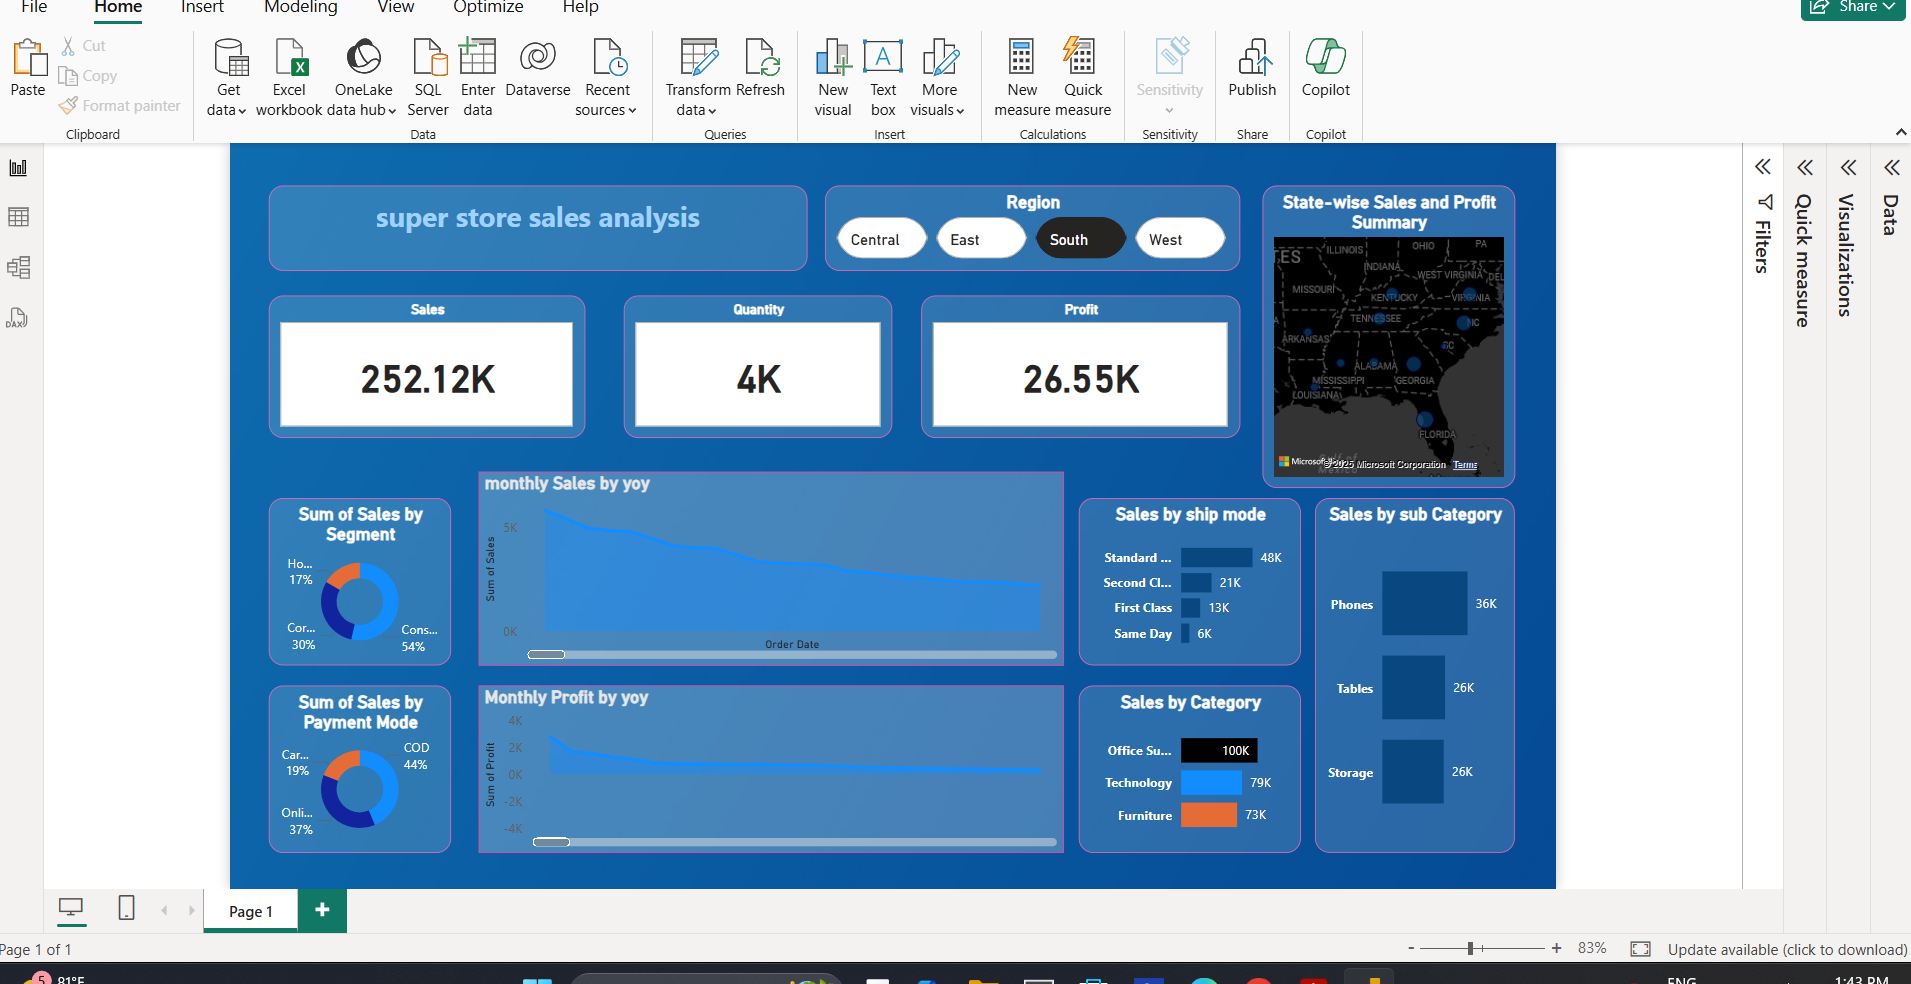

This screenshot's page, from the dashboard's own definition file:
{"tool":"powerbi","page":{"name":"Page 1","canvas":[1280,720],"ordinal":0},"visuals":[{"type":"clusteredBarChart","title":" Sales by Category","fields":{"Category":["SuperStore_Sales_Dataset.Category"],"Y":["Sum(SuperStore_Sales_Dataset.Sales)"]},"box":[819.2,523.6,214.7,161.7],"z":0},{"type":"clusteredBarChart","title":" Sales by sub Category","fields":{"Category":["SuperStore_Sales_Dataset.Sub-Category"],"Y":["Sum(SuperStore_Sales_Dataset.Sales)"]},"box":[1047.2,342.6,193,342.6],"z":1000},{"type":"clusteredBarChart","title":" Sales by ship mode","fields":{"Category":["SuperStore_Sales_Dataset.Ship Mode"],"Y":["Sum(SuperStore_Sales_Dataset.Sales)"]},"box":[819.2,342.6,214.7,161.7],"z":2000},{"type":"stackedAreaChart","title":"monthly Sales by yoy","fields":{"Y":["Sum(SuperStore_Sales_Dataset.Sales)"],"Category":["SuperStore_Sales_Dataset.Order Date"]},"box":[240.1,317.3,564.6,187],"z":3000},{"type":"stackedAreaChart","title":"Monthly Profit by yoy","fields":{"Y":["Sum(SuperStore_Sales_Dataset.Profit)"],"Category":["SuperStore_Sales_Dataset.Order Date"]},"box":[240.1,523.6,564.6,161.7],"z":4000},{"type":"map","title":"State-wise Sales and Profit Summary","fields":{"Category":["SuperStore_Sales_Dataset.State"],"Size":["Sum(SuperStore_Sales_Dataset.Sales)"]},"box":[996.5,41,243.7,292],"z":5000},{"type":"donutChart","fields":{"Category":["SuperStore_Sales_Dataset.Segment"],"Y":["Sum(SuperStore_Sales_Dataset.Sales)"]},"box":[37.4,342.6,176.1,161.7],"z":6000},{"type":"donutChart","fields":{"Category":["SuperStore_Sales_Dataset.Payment Mode"],"Y":["Sum(SuperStore_Sales_Dataset.Sales)"]},"box":[37.4,523.6,176.1,161.7],"z":7000},{"type":"advancedSlicerVisual","fields":{"Values":["SuperStore_Sales_Dataset.Region"]},"box":[574.3,41,400.5,82],"z":8000},{"type":"textbox","box":[37.4,41,520,82],"z":9000},{"type":"cardVisual","title":"Sales","fields":{"Data":["Sum(SuperStore_Sales_Dataset.Sales)"]},"box":[37.4,147.2,305.2,137.5],"z":9001},{"type":"cardVisual","title":"Quantity","fields":{"Data":["Sum(SuperStore_Sales_Dataset.Quantity)"]},"box":[380,147.2,259.4,137.5],"z":9002},{"type":"cardVisual","title":"Profit","fields":{"Data":["Sum(SuperStore_Sales_Dataset.Profit)"]},"box":[667.2,147.2,307.6,137.5],"z":9003}]}

Visuals, with their boxes on the page's 1280x720 design canvas (x1, y1, x2, y2). These are canvas units, not pixel positions in the 1911x984 screenshot, which may show the page scaled, cropped or inside an application window:
" Sales by Category" clusteredBarChart: Rect(819, 524, 1034, 685)
" Sales by sub Category" clusteredBarChart: Rect(1047, 343, 1240, 685)
" Sales by ship mode" clusteredBarChart: Rect(819, 343, 1034, 504)
"monthly Sales by yoy" stackedAreaChart: Rect(240, 317, 805, 504)
"Monthly Profit by yoy" stackedAreaChart: Rect(240, 524, 805, 685)
"State-wise Sales and Profit Summary" map: Rect(996, 41, 1240, 333)
donutChart - SuperStore_Sales_Dataset.Segment x Sum(SuperStore_Sales_Dataset.Sales): Rect(37, 343, 214, 504)
donutChart - SuperStore_Sales_Dataset.Payment Mode x Sum(SuperStore_Sales_Dataset.Sales): Rect(37, 524, 214, 685)
advancedSlicerVisual - SuperStore_Sales_Dataset.Region: Rect(574, 41, 975, 123)
textbox: Rect(37, 41, 557, 123)
"Sales" cardVisual: Rect(37, 147, 343, 285)
"Quantity" cardVisual: Rect(380, 147, 639, 285)
"Profit" cardVisual: Rect(667, 147, 975, 285)
